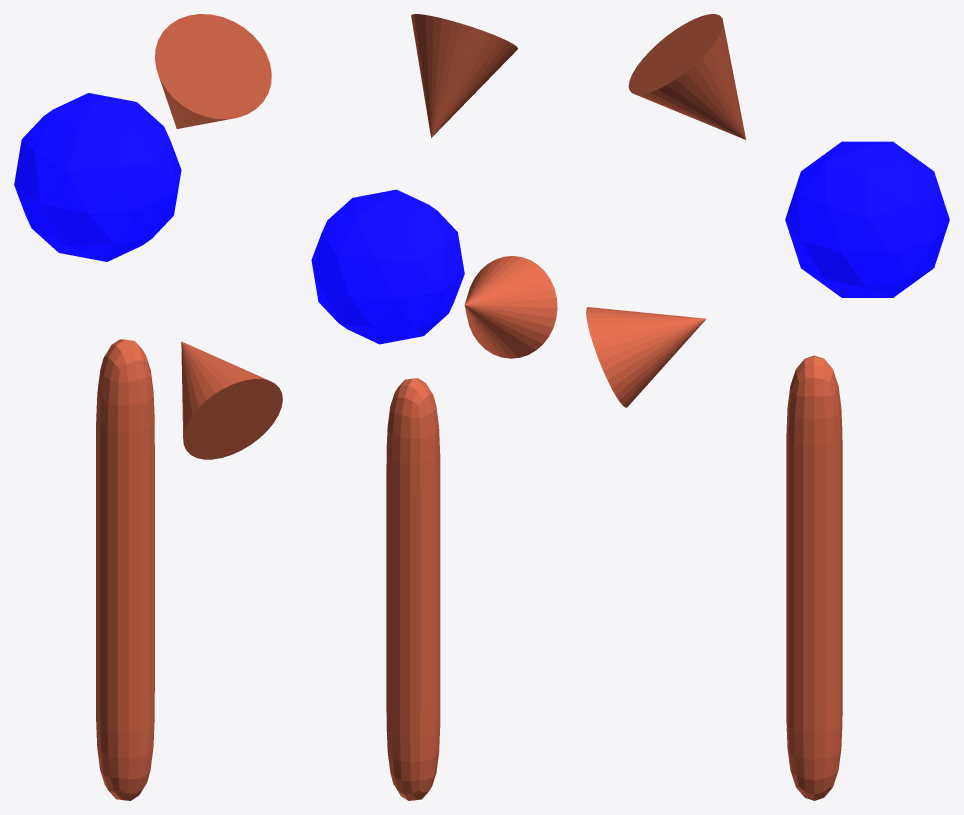
Rendered from MagicWandn2.fbx.
The picture shows the model from 3 angles, left to right: view 1: azimuth 30°, elevation 25°; view 2: azimuth 150°, elevation 25°; view 3: azimuth 270°, elevation 25°; orthographic projection. The views are drawn at different scales.
Visible parts, largest first — view 1: 立方体, 棱角球, 锥体, 锥体.001; view 2: 立方体, 棱角球, 锥体.001, 锥体; view 3: 立方体, 棱角球, 锥体, 锥体.001.
Boxes of the visible parts, x1=… form: 立方体: x1=96, y1=339, x2=154, y2=800; 棱角球: x1=14, y1=93, x2=181, y2=261; 锥体: x1=155, y1=14, x2=271, y2=128; 锥体.001: x1=181, y1=341, x2=282, y2=459; 立方体: x1=386, y1=378, x2=440, y2=800; 棱角球: x1=311, y1=189, x2=464, y2=344; 锥体.001: x1=464, y1=256, x2=557, y2=358; 锥体: x1=411, y1=14, x2=517, y2=137; 立方体: x1=786, y1=355, x2=842, y2=800; 棱角球: x1=785, y1=141, x2=949, y2=297; 锥体: x1=628, y1=14, x2=745, y2=139; 锥体.001: x1=586, y1=307, x2=706, y2=407.
Bounding box in the file's own units: 53.49 × 296 × 124.
